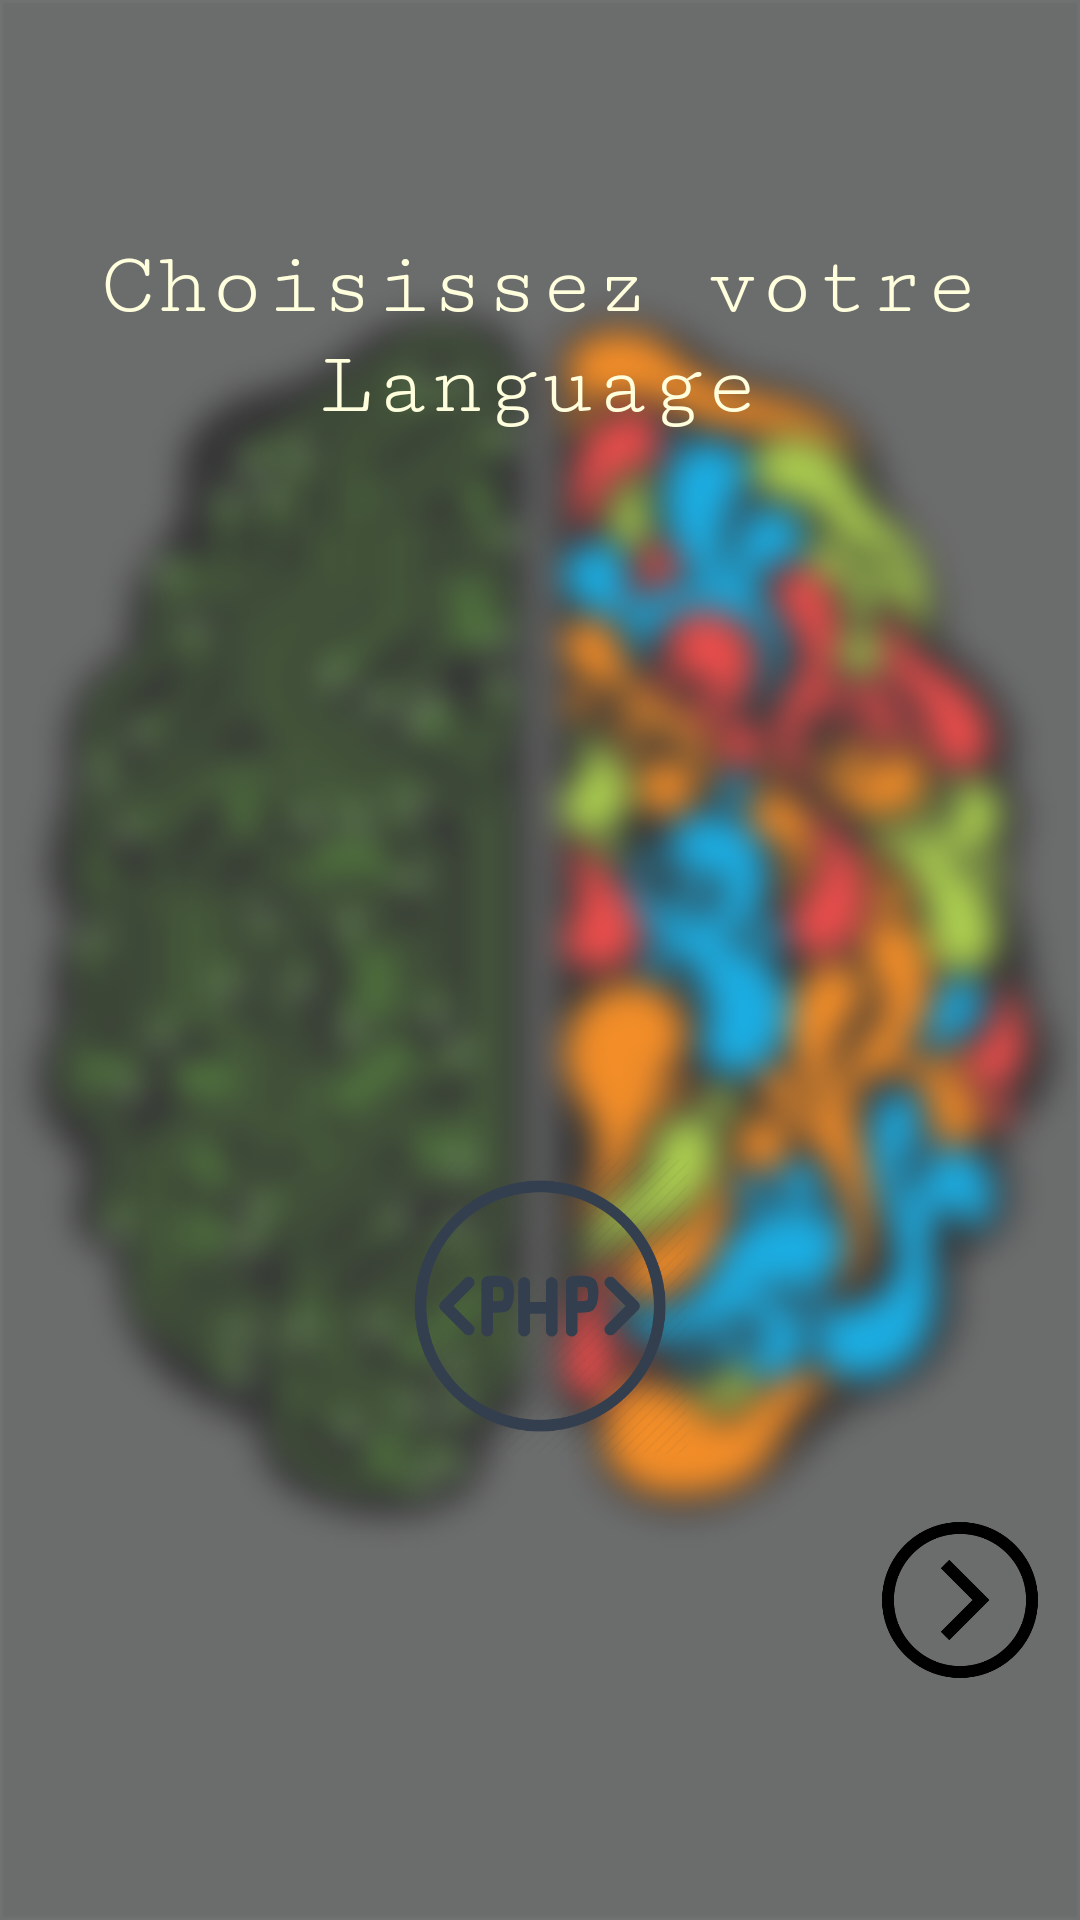

Where to tap for icons on this 1080 x 1920 app screen, as (x=x, y=y):
nexticon: (x=960, y=1600)
